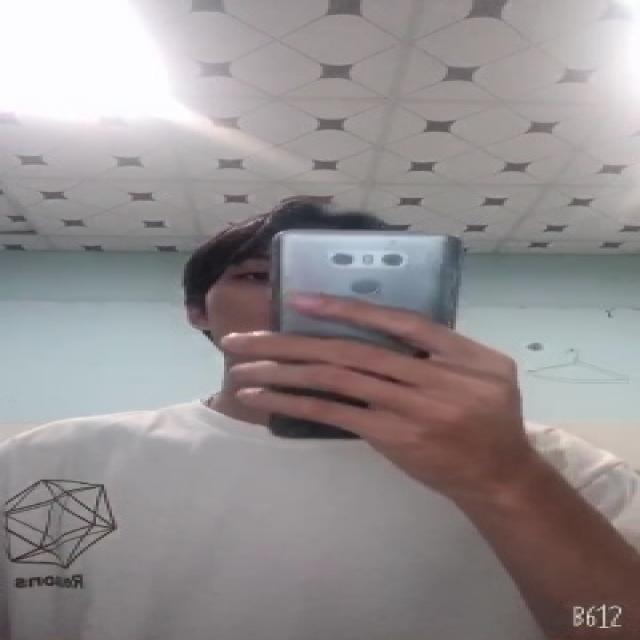Phone: (268, 227, 464, 438)
